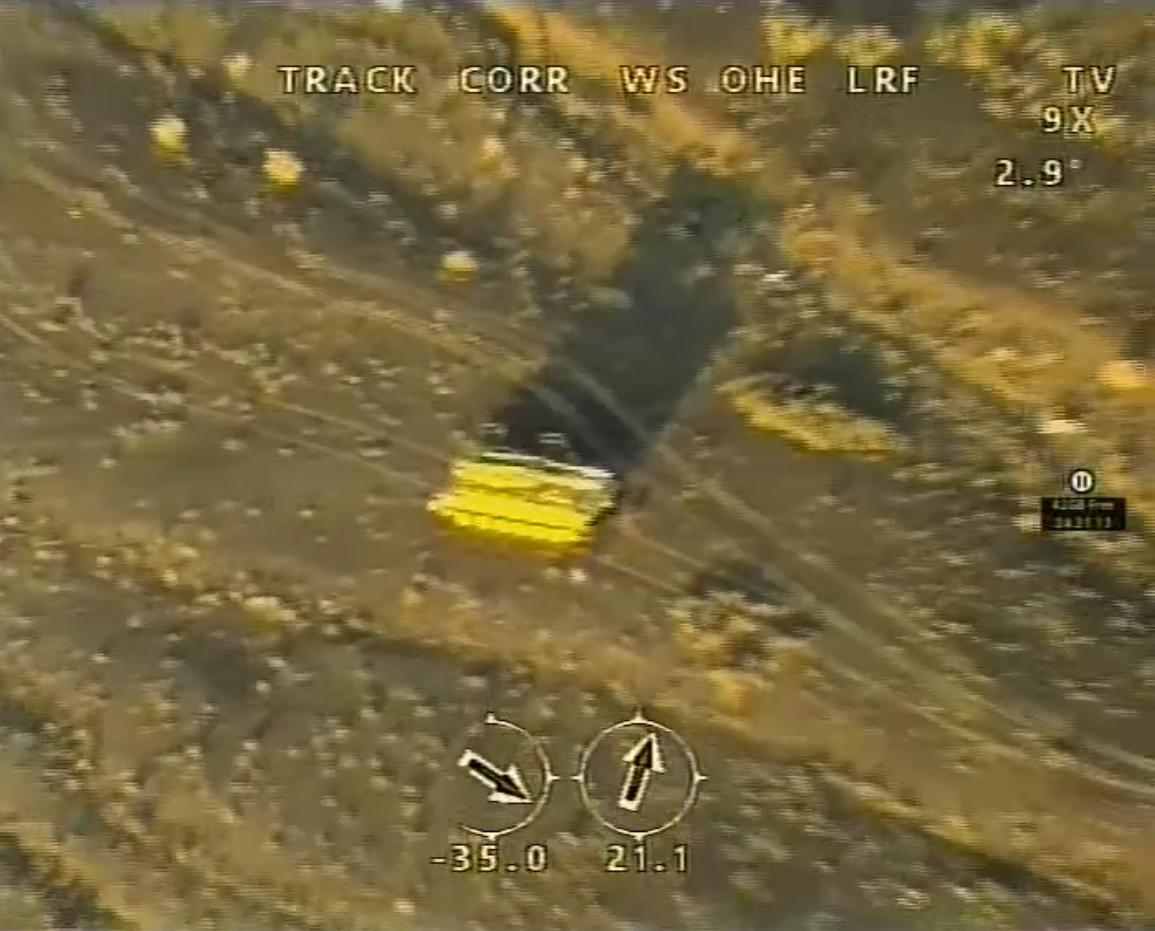armored_car: (421, 435, 622, 548)
